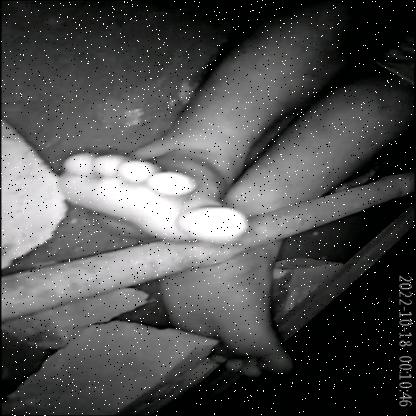leg: (14, 69, 252, 256), (129, 254, 320, 390)
